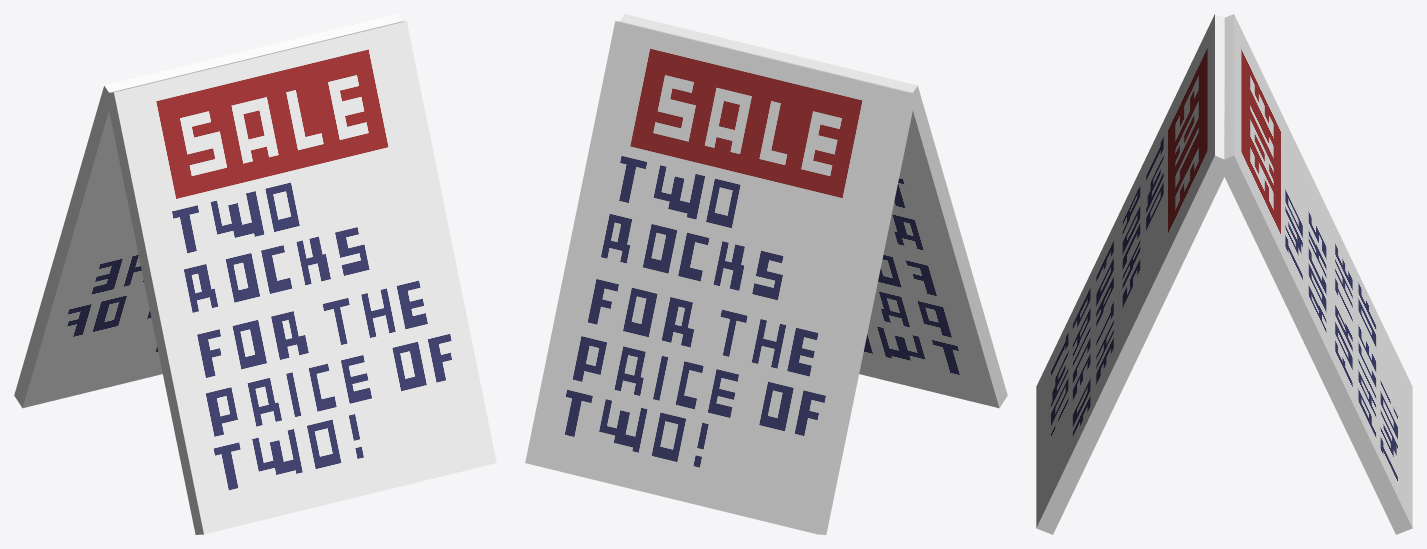
Rendered from Sign_SALE.obj.
3 views of the same model, side by side, from view 1: azimuth 30°, elevation 25°; view 2: azimuth 150°, elevation 25°; view 3: azimuth 270°, elevation 25° (orthographic).
Visible parts, largest first — view 1: Plane.001, Plane.002; view 2: Plane.002, Plane.001; view 3: Plane.001, Plane.002.
Part boxes in pixels (x1,y1,x2,y2): Plane.001: (109,21,496,534); Plane.002: (14,14,401,408); Plane.002: (525,21,916,534); Plane.001: (620,14,1007,408); Plane.001: (1036,14,1231,534); Plane.002: (1218,14,1412,534).
Size of the model in its own units: 3.73 by 4.65 by 4.19.
